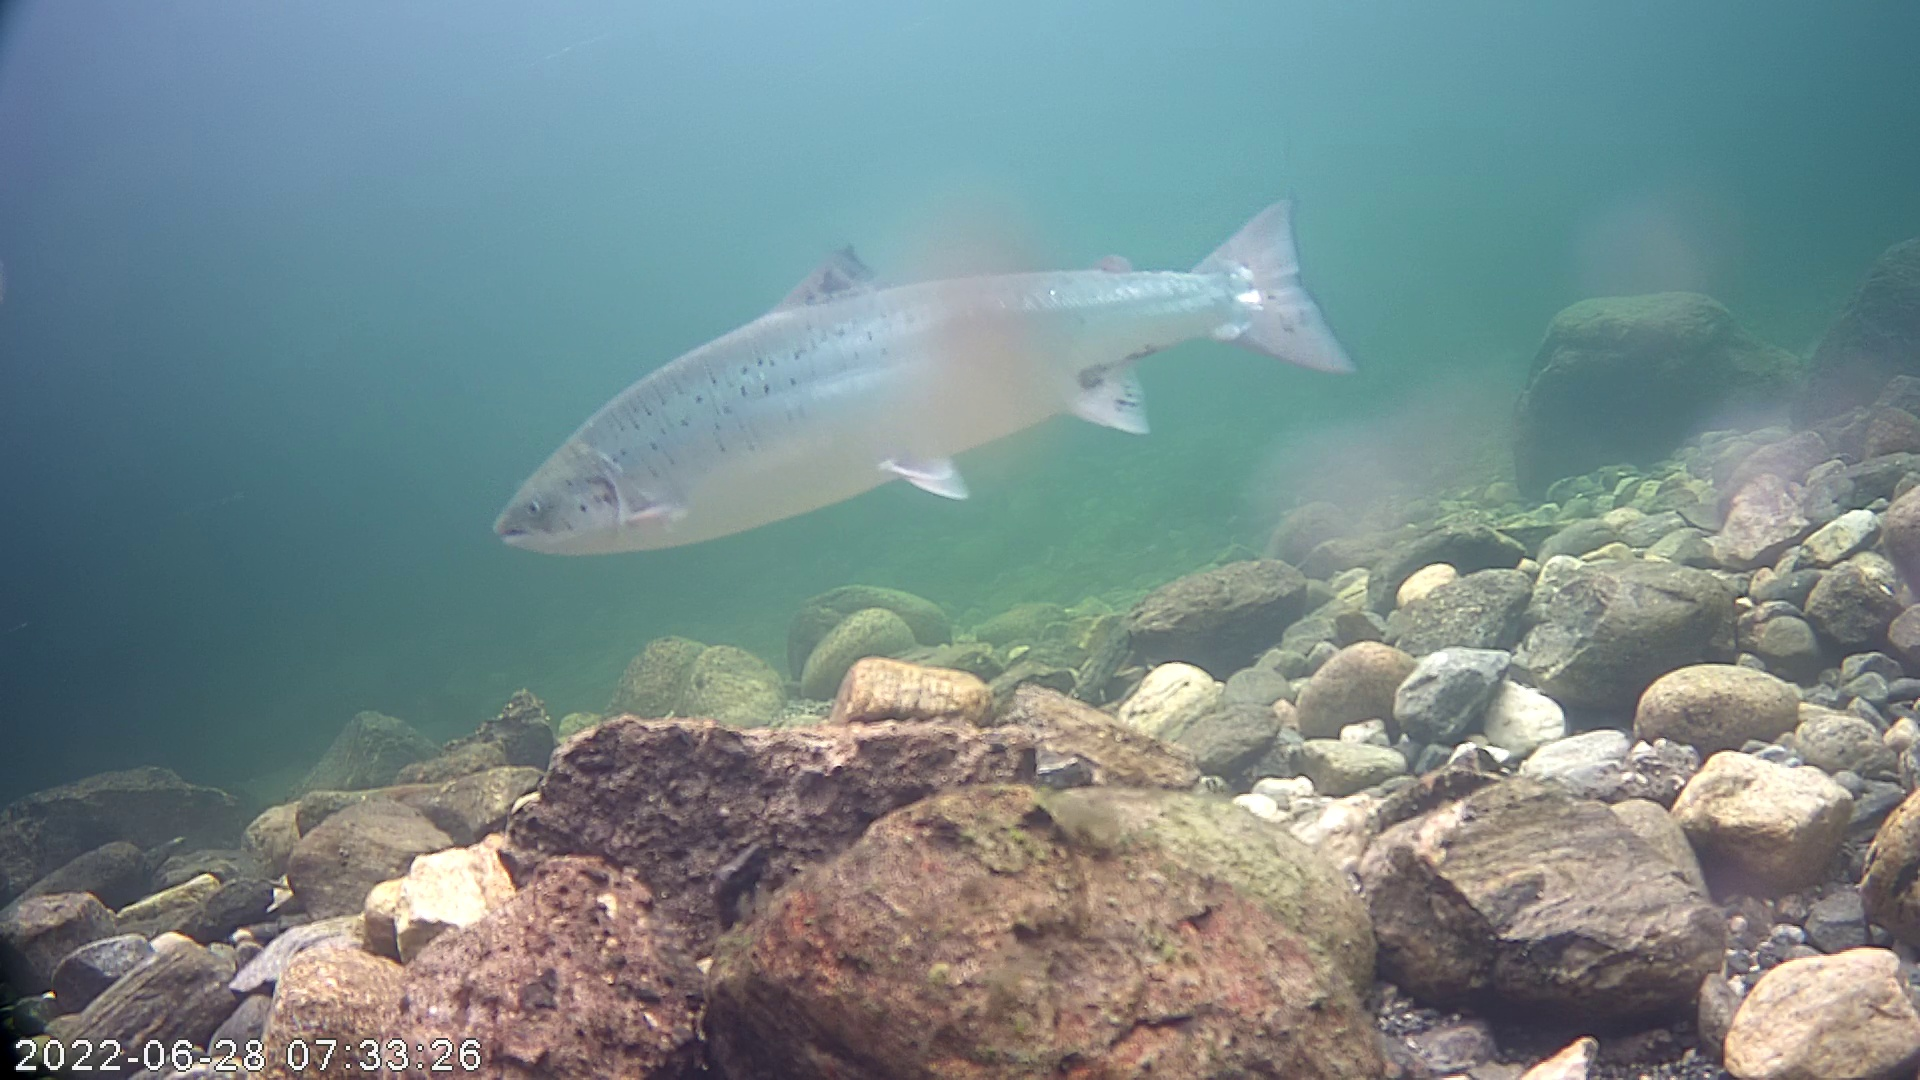salmon: (495, 146, 1381, 588)
